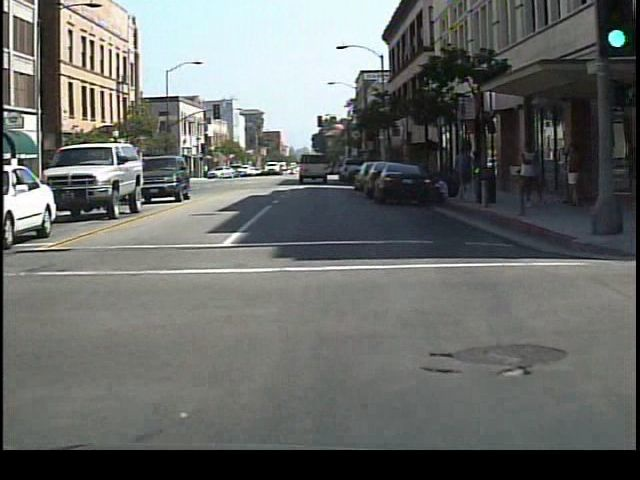person: (513, 135, 548, 219), (451, 142, 474, 200)
